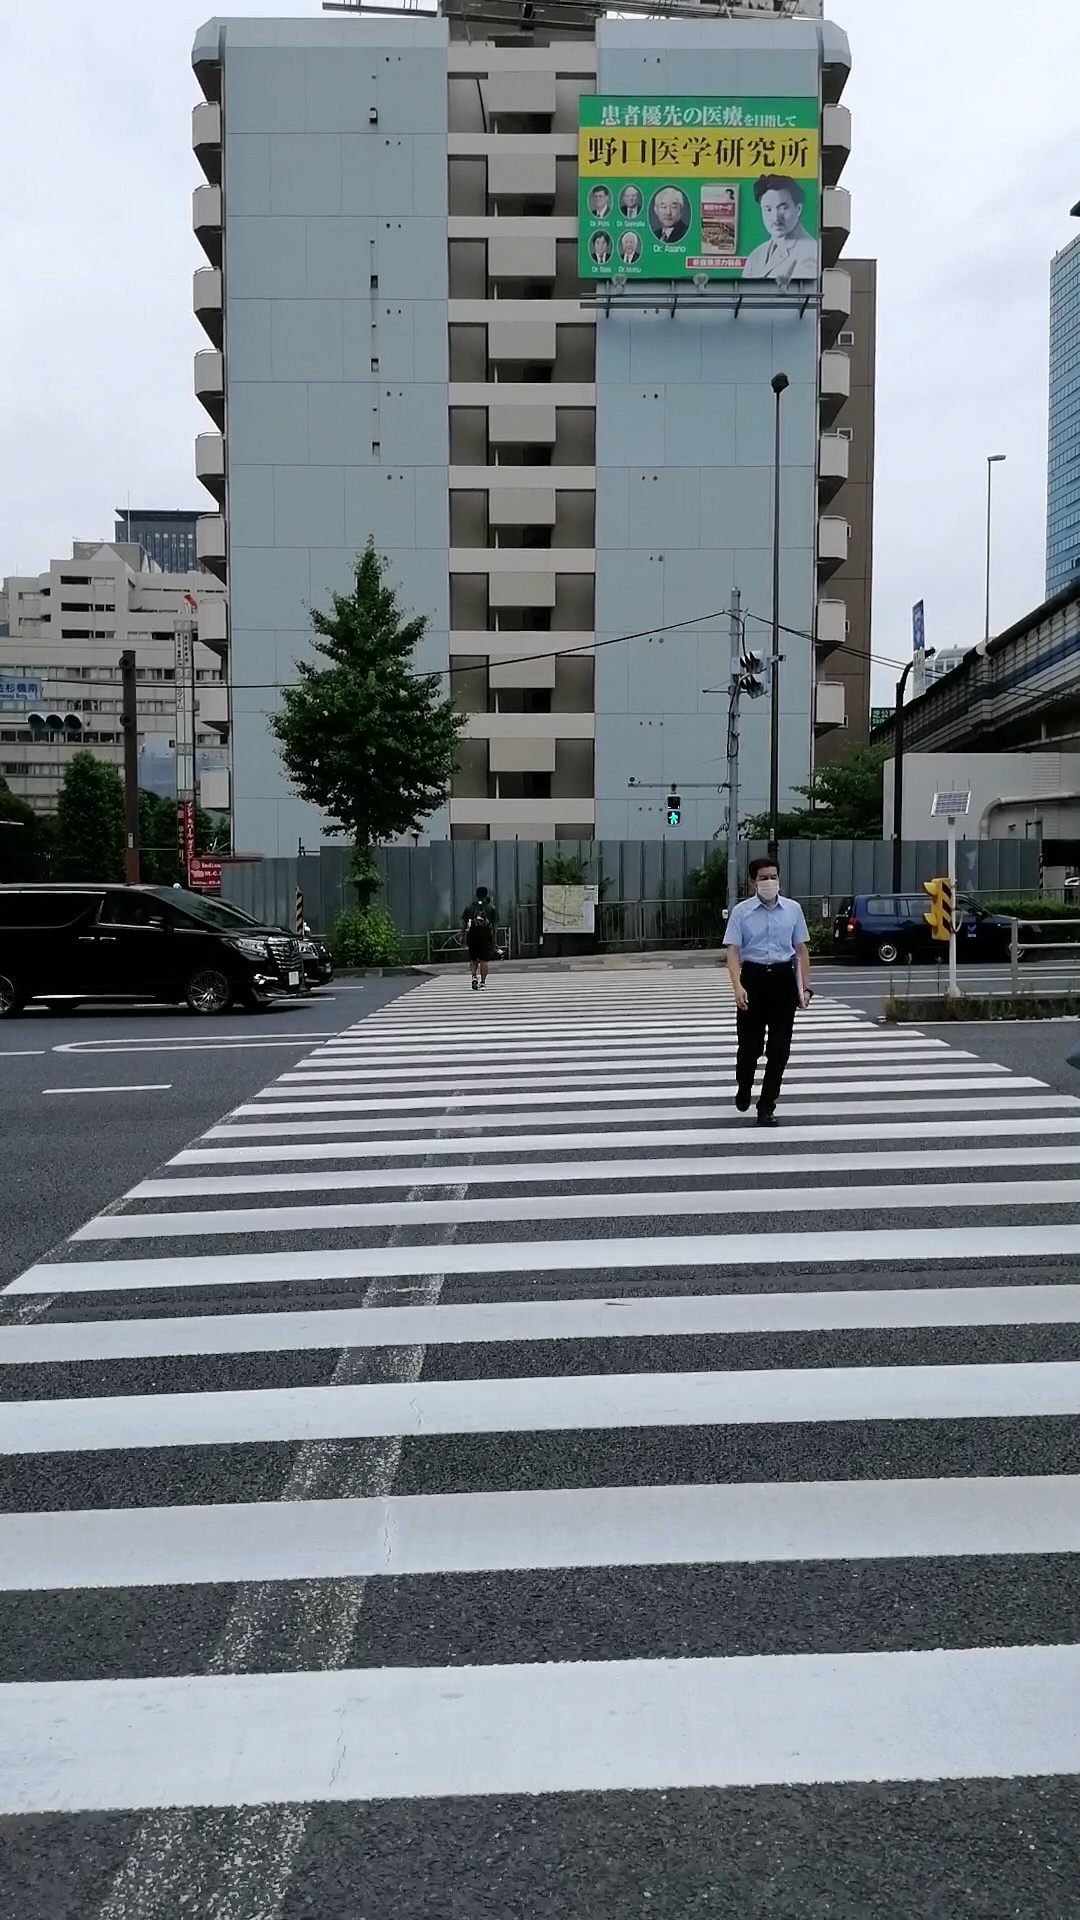green: (662, 791, 683, 828)
